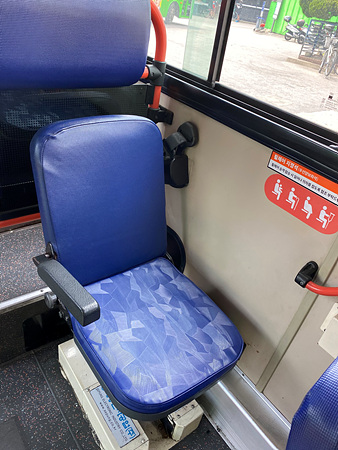seat: (29, 114, 242, 416)
